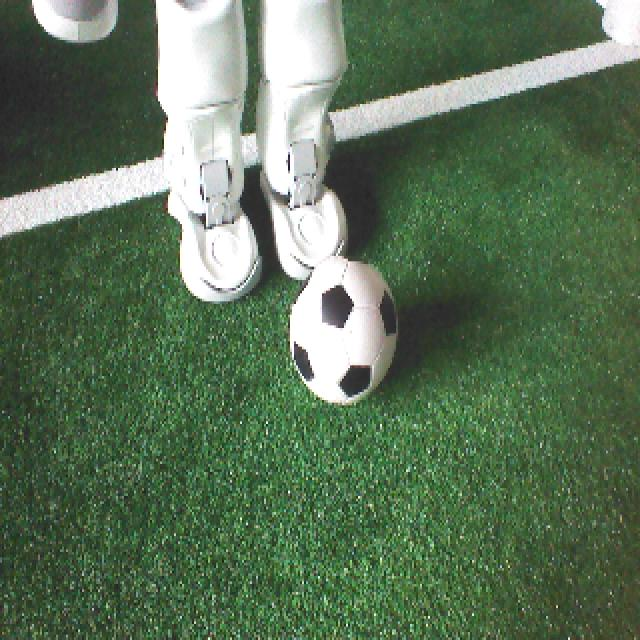ball: (290, 253, 400, 411)
